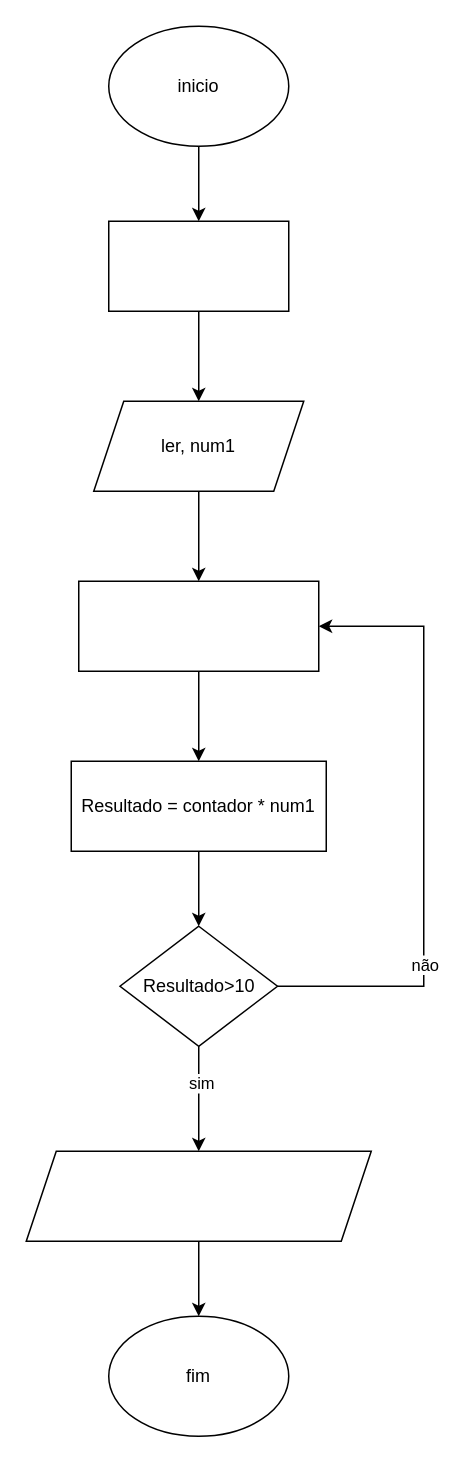
The diagram is 464 pixels wide and 1463 high, and some of its shapes have lost their labels. The centre of each missing label's shape, as x and y in pixels:
contador = 0: point (198, 265)
contador = contador+1: point (198, 625)
escrever: Resultado,"é acima de 10": point (198, 1195)
